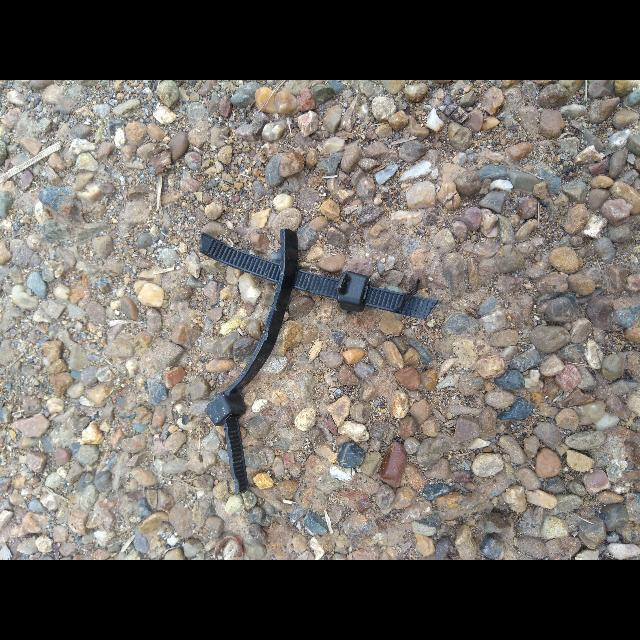Plastic: (205, 228, 298, 494), (199, 232, 439, 320)
